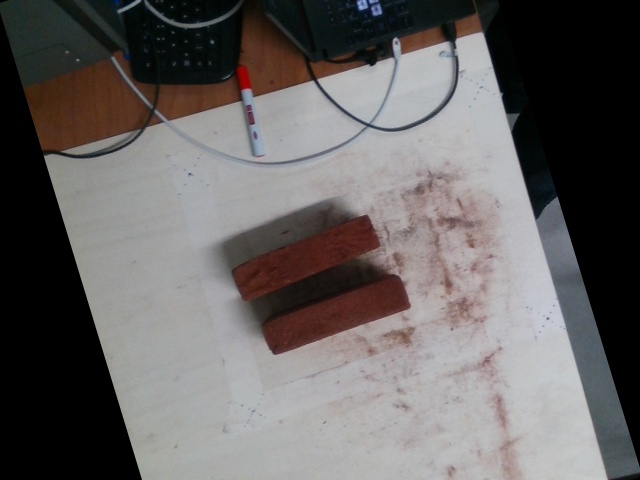brick-side: (228, 216, 378, 301), (263, 276, 408, 354)
